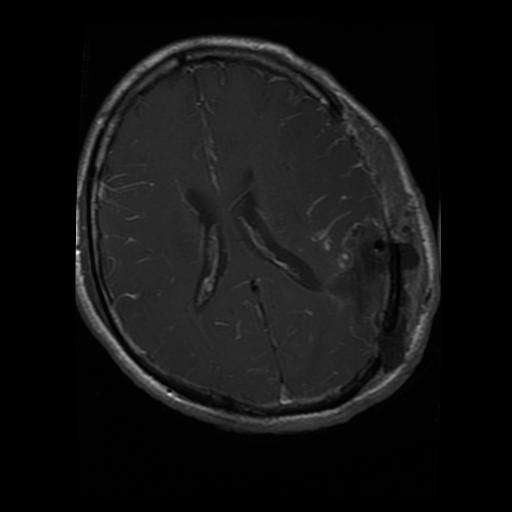Gliomia_tumour: (326, 218, 419, 371)
